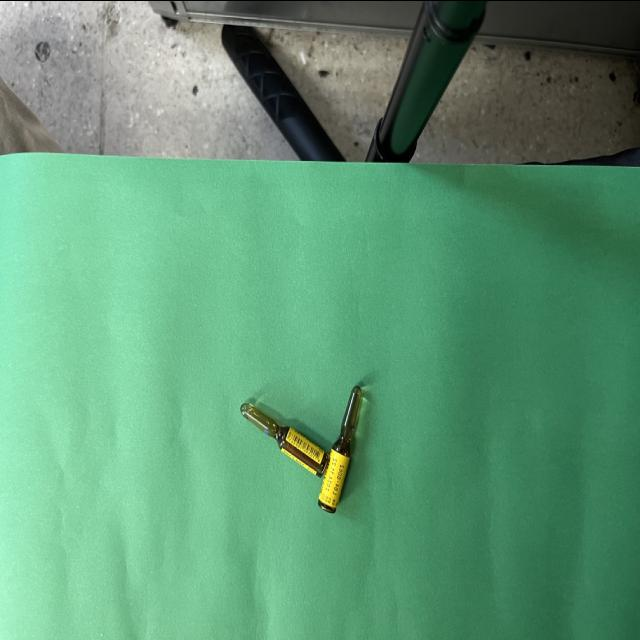Ampoules: (240, 402, 329, 475), (318, 385, 362, 511)
